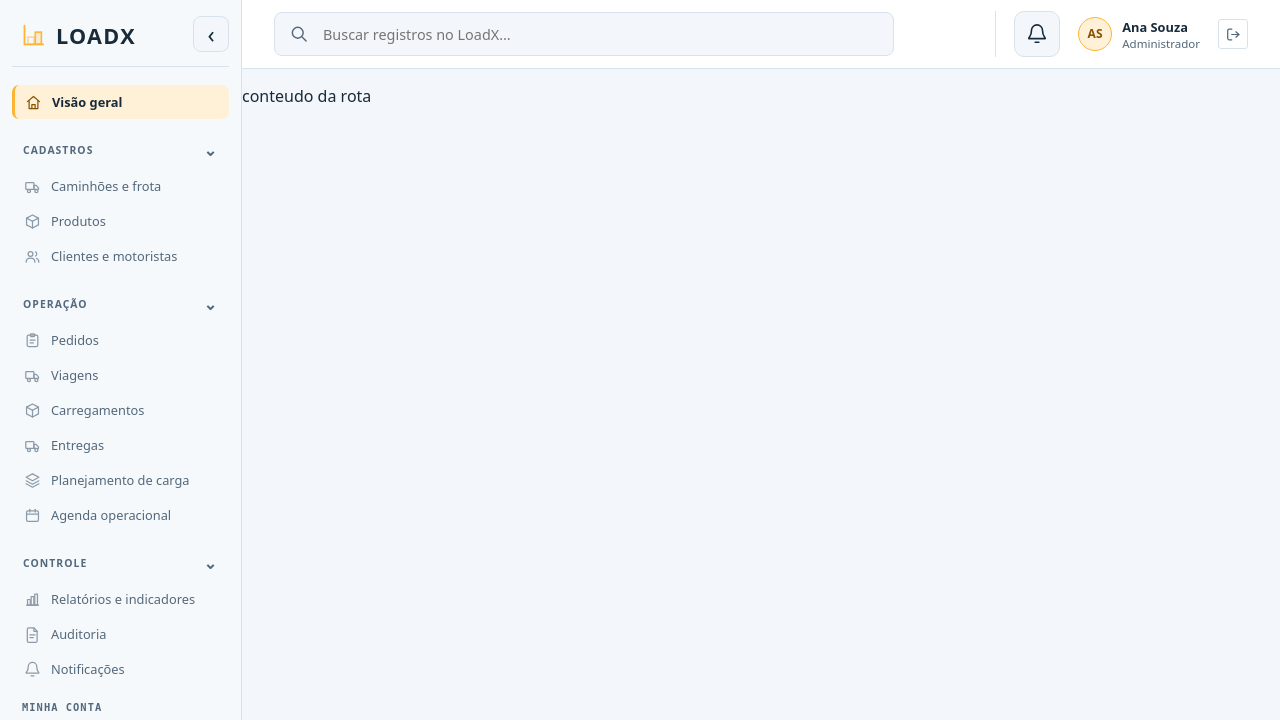
AppLayout › inicia Cadastros e Operação visíveis e permite reduzir cada grupo
Step 1. Click the button "Cadastros ⌄" → (120, 150), box x1=12 y1=134 x2=229 y2=166
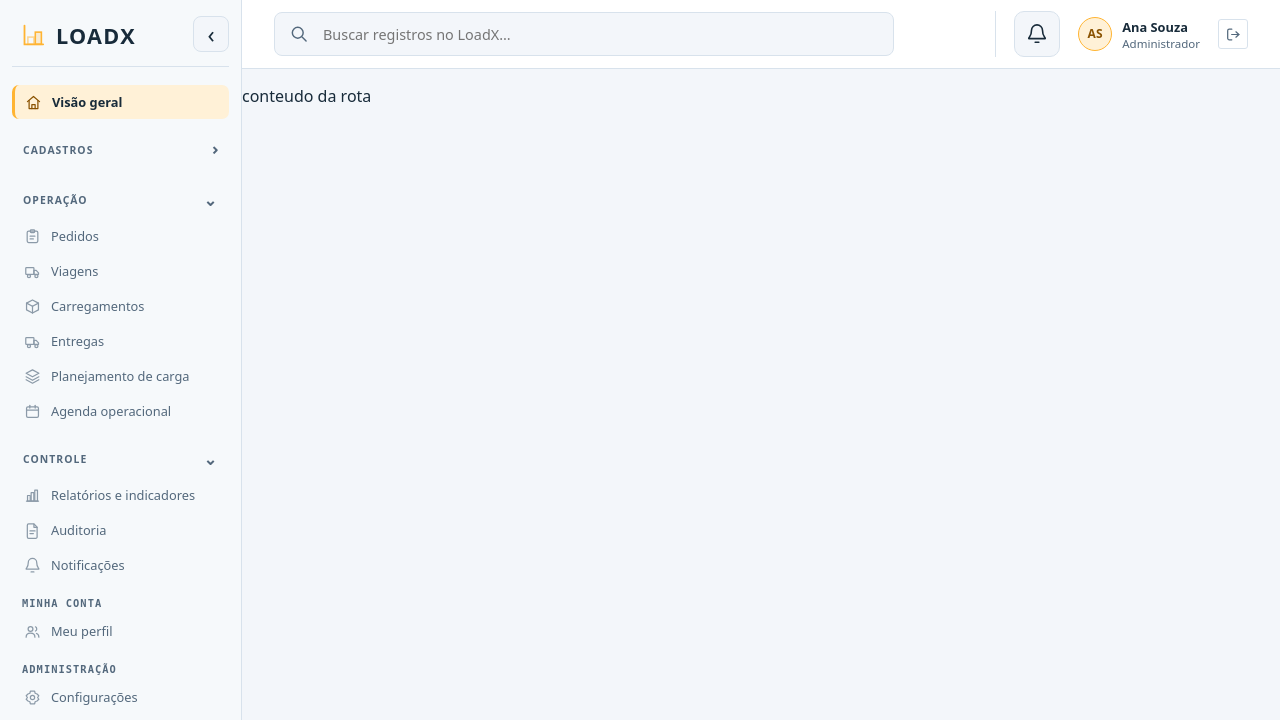
Check: the button "Cadastros ⌄" is collapsed, box x1=12 y1=134 x2=229 y2=166
Check: the link "Caminhões e frota" is gone
Step 2. Click the button "Operação ⌄" → (120, 200), box x1=12 y1=184 x2=229 y2=216
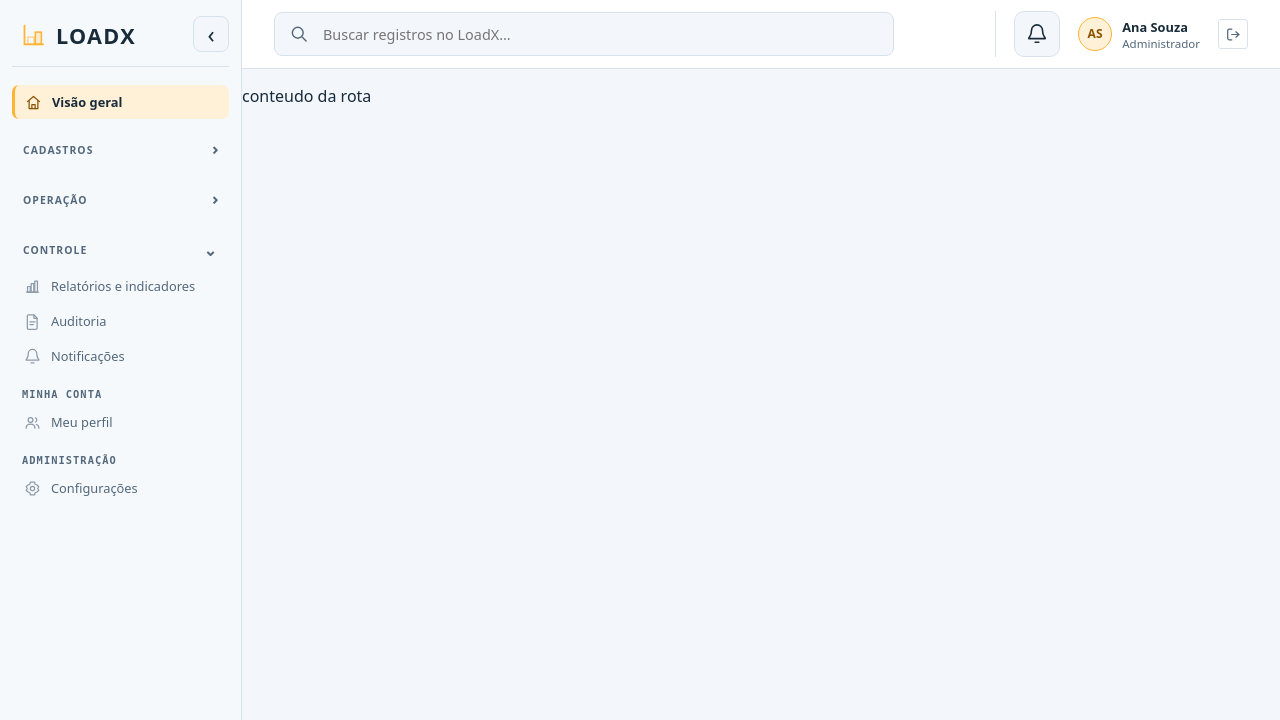
Check: the button "Operação ⌄" is collapsed, box x1=12 y1=184 x2=229 y2=216
Check: the link "Pedidos" is gone
